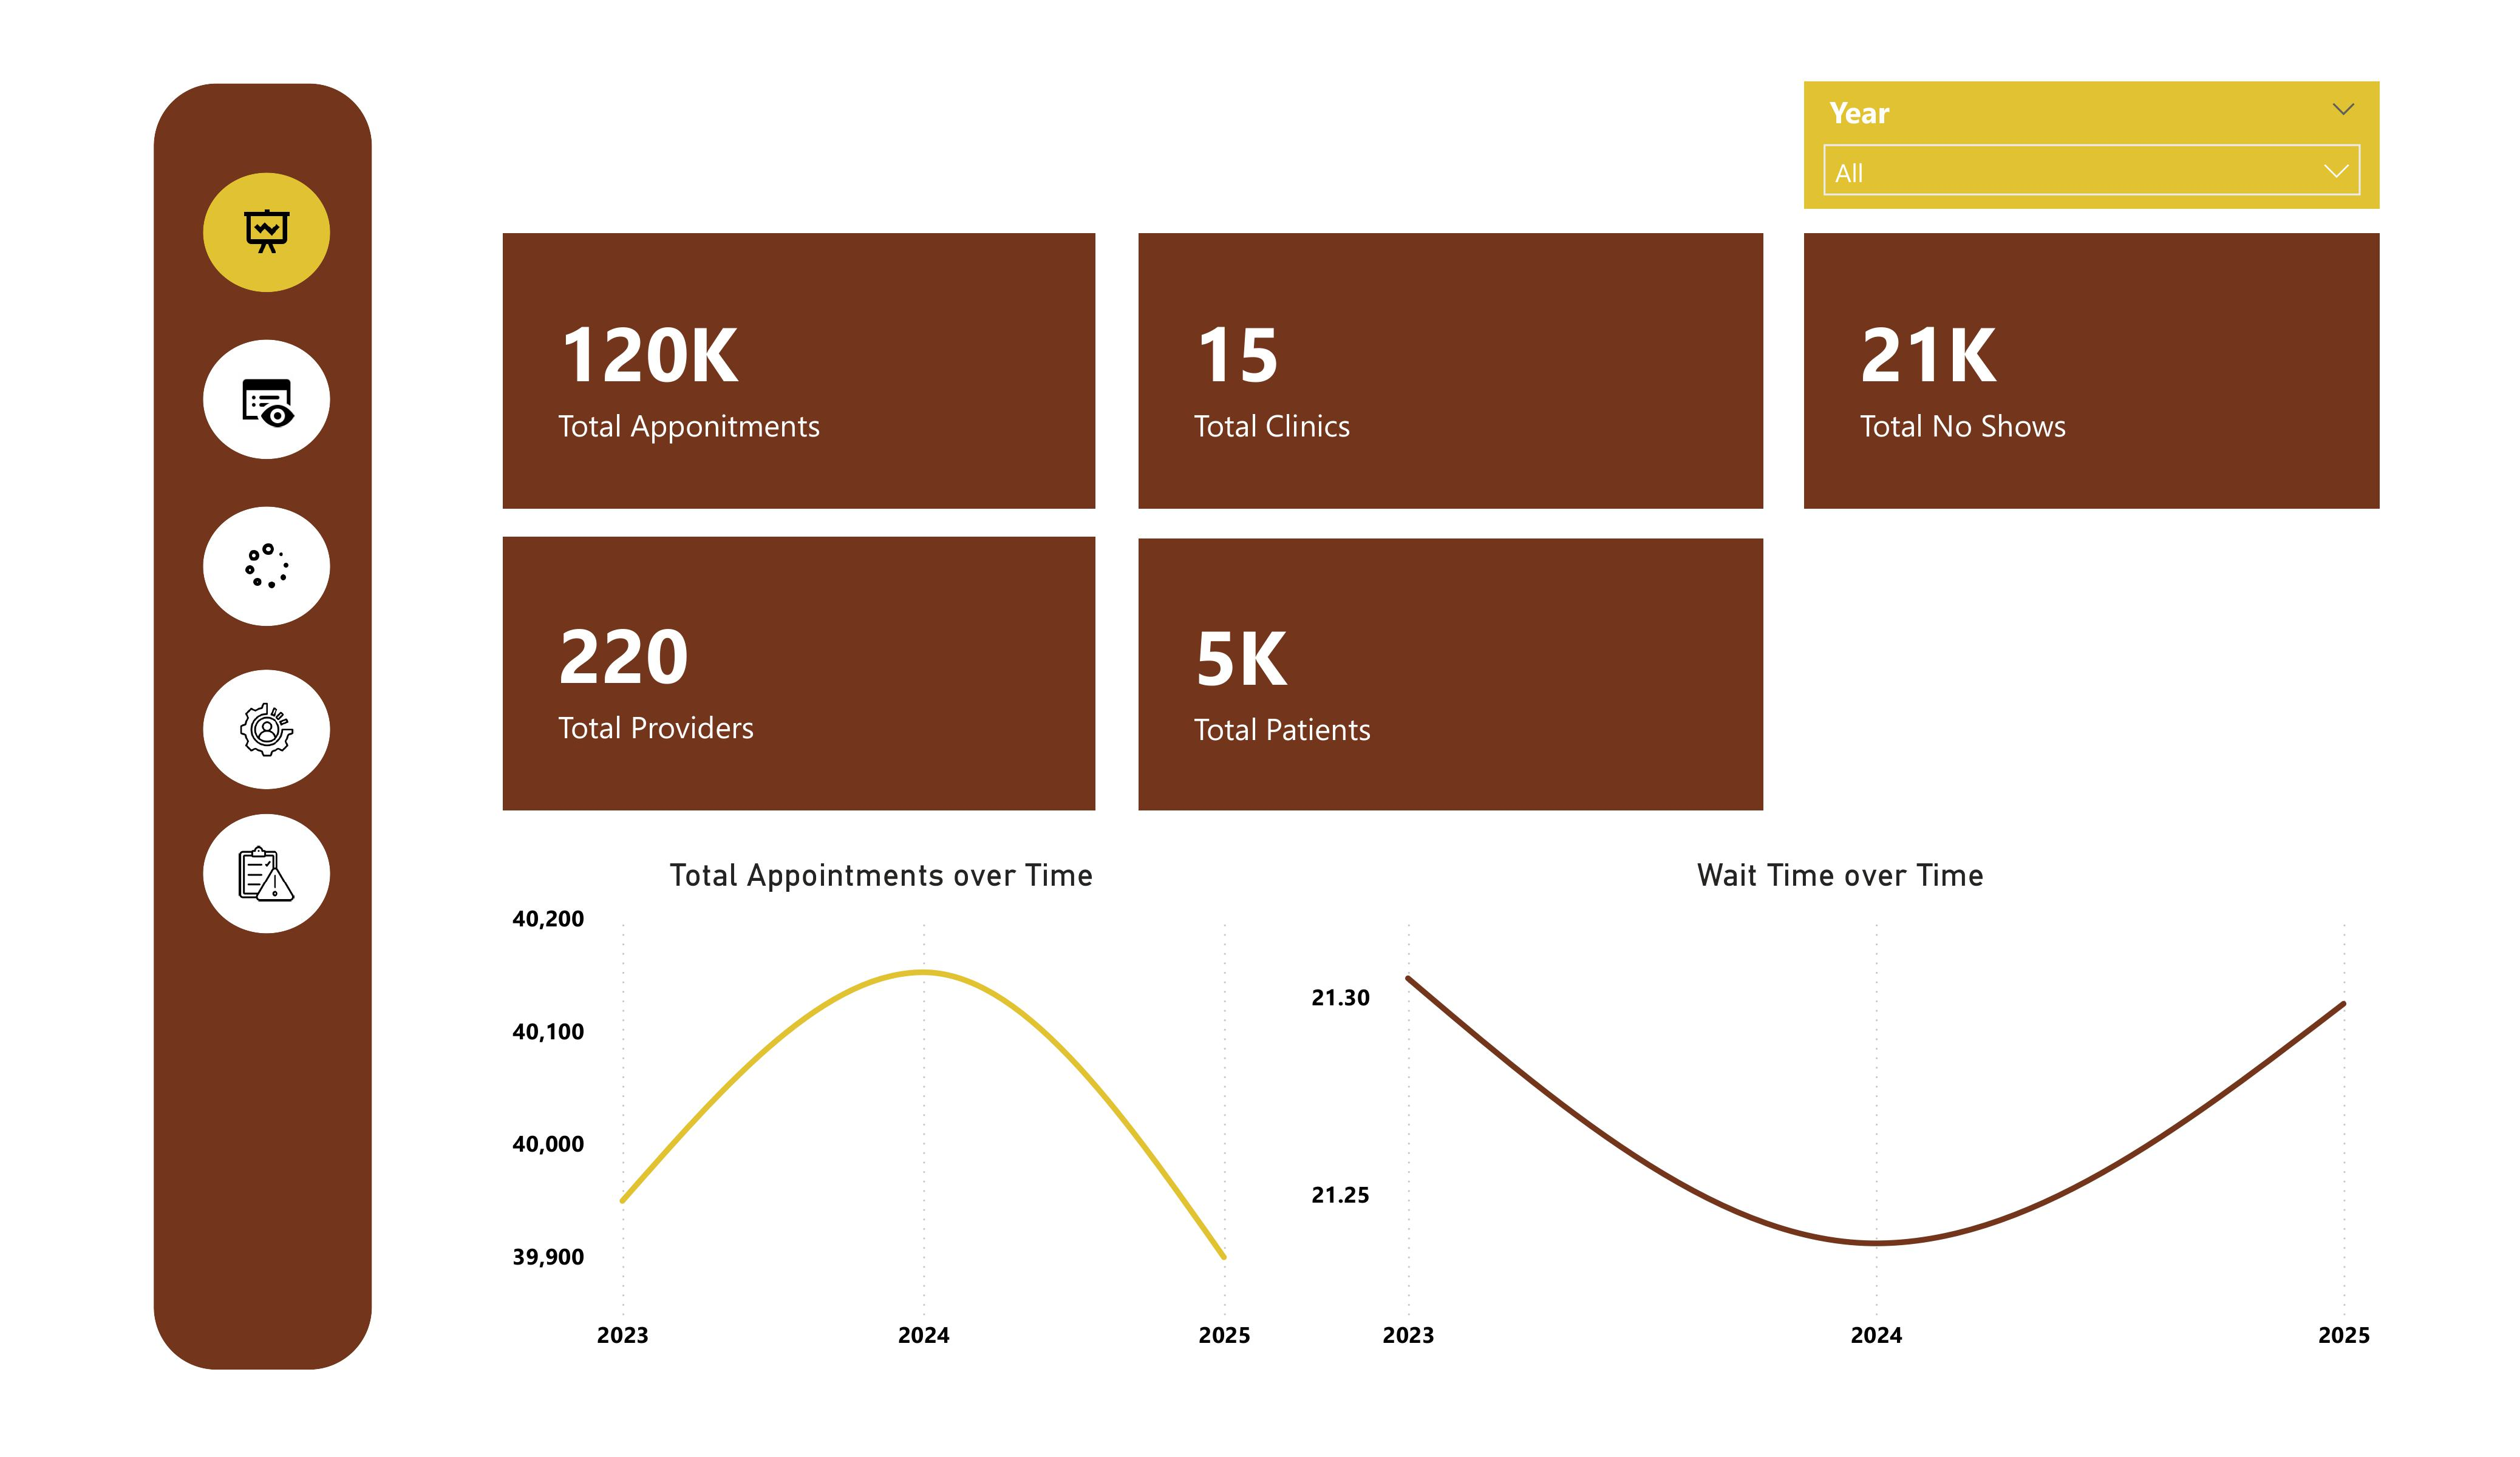

The page's visual inventory and layout, read from the dashboard file:
{"tool":"powerbi","page":{"name":"STATISTICS","canvas":[1280,720],"ordinal":0},"visuals":[{"type":"shape","box":[82.8,66.5,66.5,62.8],"z":0,"group":"g1"},{"type":"cardVisual","fields":{"Data":["CountNonNull(fact_appointments.APPOINTMENT_ID)"]},"box":[240.7,98.8,312.8,145.3],"z":0},{"type":"shape","box":[82.8,154.9,66.5,62.8],"z":0,"group":"g2"},{"type":"shape","box":[82.8,243.3,66.5,62.8],"z":0,"group":"g3"},{"type":"shape","box":[82.6,329.1,66.5,62.8],"z":0,"group":"g4"},{"type":"shape","box":[82.6,404.7,66.5,62.8],"z":0,"group":"g5"},{"type":"image","box":[84.3,83.5,63.6,28.9],"z":1000,"group":"g1"},{"type":"image","box":[84.3,171.9,63.6,28.9],"z":1000,"group":"g2"},{"type":"cardVisual","fields":{"Data":["CountNonNull(dim_providers.provider_id)"]},"box":[240.7,259.3,312.8,144.2],"z":1000},{"type":"image","box":[84.3,260.3,63.6,28.9],"z":1000,"group":"g3"},{"type":"image","box":[84.1,346.1,63.6,28.9],"z":1000,"group":"g4"},{"type":"image","box":[84.1,421.7,63.6,28.9],"z":1000,"group":"g5"},{"type":"cardVisual","fields":{"Data":["CountNonNull(dim_patients.PATIENT_ID)"]},"box":[575.6,260.5,329.1,143],"z":2000},{"type":"cardVisual","fields":{"Data":["Count(dim_clinics.provider_clinic_id)"]},"box":[575.6,98.8,329.1,145.3],"z":3000},{"type":"cardVisual","fields":{"Data":["CountNonNull(fact_appointments.IS_NO_SHOW)"]},"box":[926.7,98.8,303.5,145.3],"z":4000},{"type":"slicer","fields":{"Values":["fact_appointments.Year"]},"box":[926.7,18.6,303.5,67.4],"z":5000},{"type":"shape","box":[57,19.8,115.1,677.9],"z":6000},{"type":"group","id":"g1","title":"Group 1","box":[82.8,66.5,65.1,62.8],"z":7000},{"type":"group","id":"g2","title":"Group 1","box":[82.8,154.9,65.1,62.8],"z":8000},{"type":"group","id":"g3","title":"Group 1","box":[82.8,243.3,65.1,62.8],"z":9000},{"type":"lineChart","title":"Total Appointments over Time","fields":{"Category":["fact_appointments.Year"],"Y":["CountNonNull(fact_appointments.APPOINTMENT_ID)"]},"box":[240.7,426.7,398.8,270.9],"z":10000},{"type":"lineChart","title":"Wait Time over Time","fields":{"Category":["fact_appointments.Year"],"Y":["fact_appointments.Avg Wait Time"]},"box":[661.6,426.7,568.6,270.9],"z":11000},{"type":"group","id":"g4","title":"Group 1","box":[82.6,329.1,65.1,62.8],"z":12000},{"type":"group","id":"g5","title":"Group 1","box":[82.6,404.7,65.1,62.8],"z":12001}]}

Visuals, with their boxes in screenshot pixels (x1, y1, x2, y2):
shape: {"left": 201, "top": 171, "right": 325, "bottom": 288}
cardVisual - CountNonNull(fact_appointments.APPOINTMENT_ID): {"left": 497, "top": 231, "right": 1083, "bottom": 503}
shape: {"left": 201, "top": 336, "right": 325, "bottom": 453}
shape: {"left": 201, "top": 501, "right": 325, "bottom": 619}
shape: {"left": 200, "top": 662, "right": 325, "bottom": 779}
shape: {"left": 200, "top": 804, "right": 325, "bottom": 921}
image: {"left": 204, "top": 202, "right": 323, "bottom": 256}
image: {"left": 204, "top": 368, "right": 323, "bottom": 422}
cardVisual - CountNonNull(dim_providers.provider_id): {"left": 497, "top": 531, "right": 1083, "bottom": 801}
image: {"left": 204, "top": 533, "right": 323, "bottom": 588}
image: {"left": 203, "top": 694, "right": 322, "bottom": 748}
image: {"left": 203, "top": 835, "right": 322, "bottom": 889}
cardVisual - CountNonNull(dim_patients.PATIENT_ID): {"left": 1124, "top": 534, "right": 1740, "bottom": 801}
cardVisual - Count(dim_clinics.provider_clinic_id): {"left": 1124, "top": 231, "right": 1740, "bottom": 503}
cardVisual - CountNonNull(fact_appointments.IS_NO_SHOW): {"left": 1782, "top": 231, "right": 2350, "bottom": 503}
slicer - fact_appointments.Year: {"left": 1782, "top": 81, "right": 2350, "bottom": 207}
shape: {"left": 152, "top": 83, "right": 368, "bottom": 1352}
"Group 1" group: {"left": 201, "top": 171, "right": 323, "bottom": 288}
"Group 1" group: {"left": 201, "top": 336, "right": 323, "bottom": 453}
"Group 1" group: {"left": 201, "top": 501, "right": 323, "bottom": 619}
"Total Appointments over Time" lineChart: {"left": 497, "top": 845, "right": 1244, "bottom": 1352}
"Wait Time over Time" lineChart: {"left": 1285, "top": 845, "right": 2350, "bottom": 1352}
"Group 1" group: {"left": 200, "top": 662, "right": 322, "bottom": 779}
"Group 1" group: {"left": 200, "top": 804, "right": 322, "bottom": 921}
